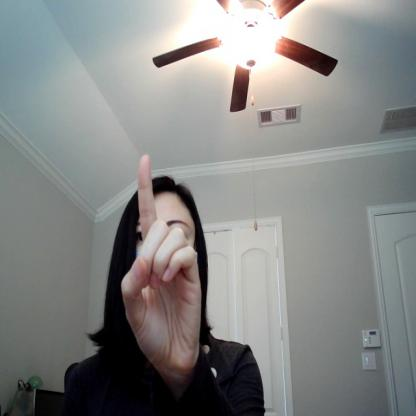one: (119, 152, 209, 380)
